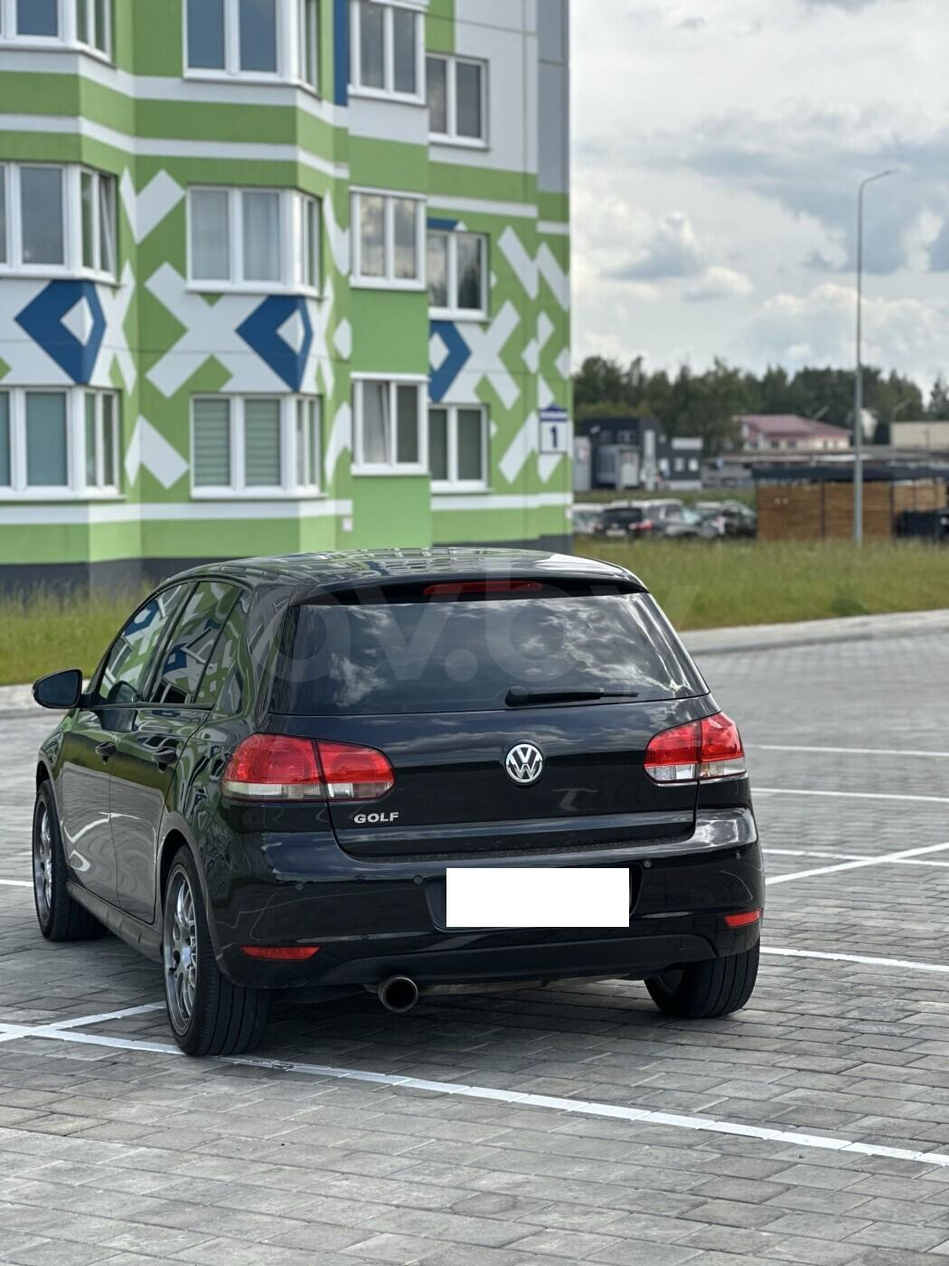Golf_2008-2013: (23, 541, 771, 1054)
